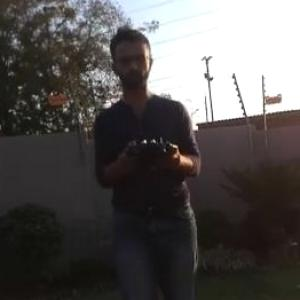follow: (89, 16, 211, 299)
